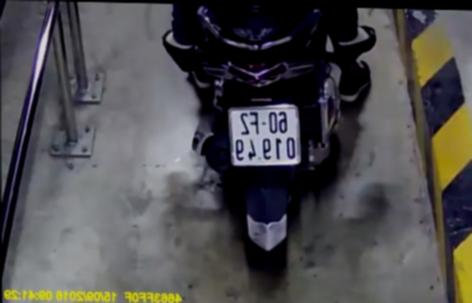License_Plate: (215, 100, 306, 170)
